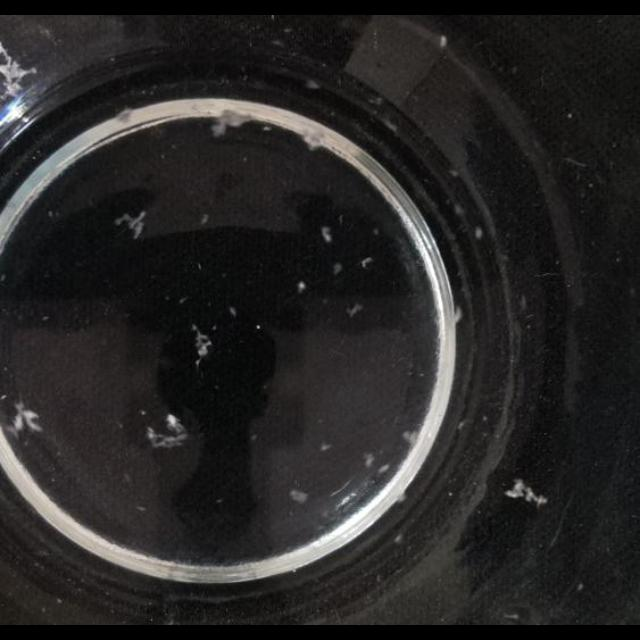Fibre: (207, 108, 317, 152), (0, 36, 38, 102), (503, 308, 525, 407), (146, 412, 192, 450), (4, 399, 44, 437), (504, 478, 546, 508), (210, 110, 250, 138), (115, 210, 149, 240), (402, 428, 420, 448)
microbeads: (289, 488, 309, 504), (362, 452, 376, 468), (347, 303, 363, 317), (361, 257, 374, 269), (198, 212, 210, 225), (333, 262, 343, 276), (297, 281, 307, 293), (320, 443, 332, 453), (394, 532, 404, 544), (439, 36, 447, 49), (229, 306, 237, 318), (576, 582, 584, 592), (178, 296, 188, 304), (250, 433, 258, 442), (215, 498, 223, 506), (48, 210, 56, 218), (136, 506, 146, 512), (138, 409, 146, 416), (566, 112, 574, 118)
